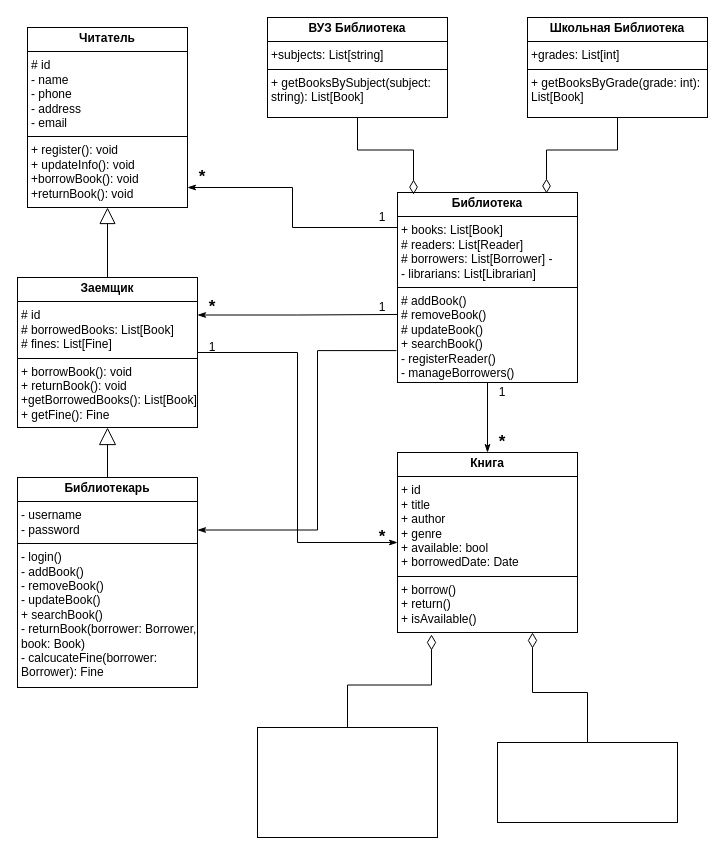
Some shapes in this 725 by 855 pixel diagram are drawn without their labels. The shapes that lost their labels are listed below. From the top down, each one's centre as x and y in pixels, then its label:
point (347, 782): Учебник + subject + grade + getSubject() + getGrade()
point (587, 782): Худ. книга + theme + getTheme()
